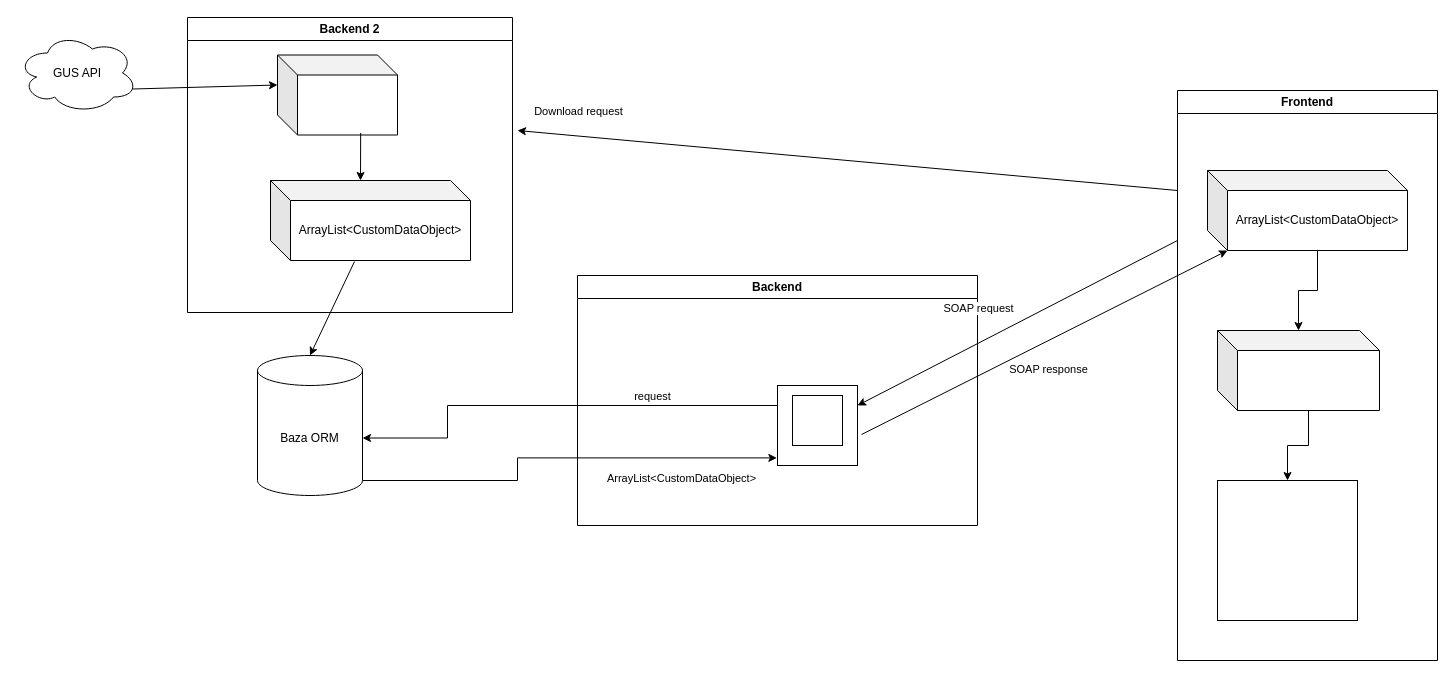
Image size: 1455x678. Some labels were removed from this diagram. The shapes that lost their labels are listed below. From the top down, each one's centre as x and y in pixels, then its label:
point 337,94: JSON dane
point 1298,370: TimeSeriesCollection
point 817,420: Auth
point 1287,550: Wykres
